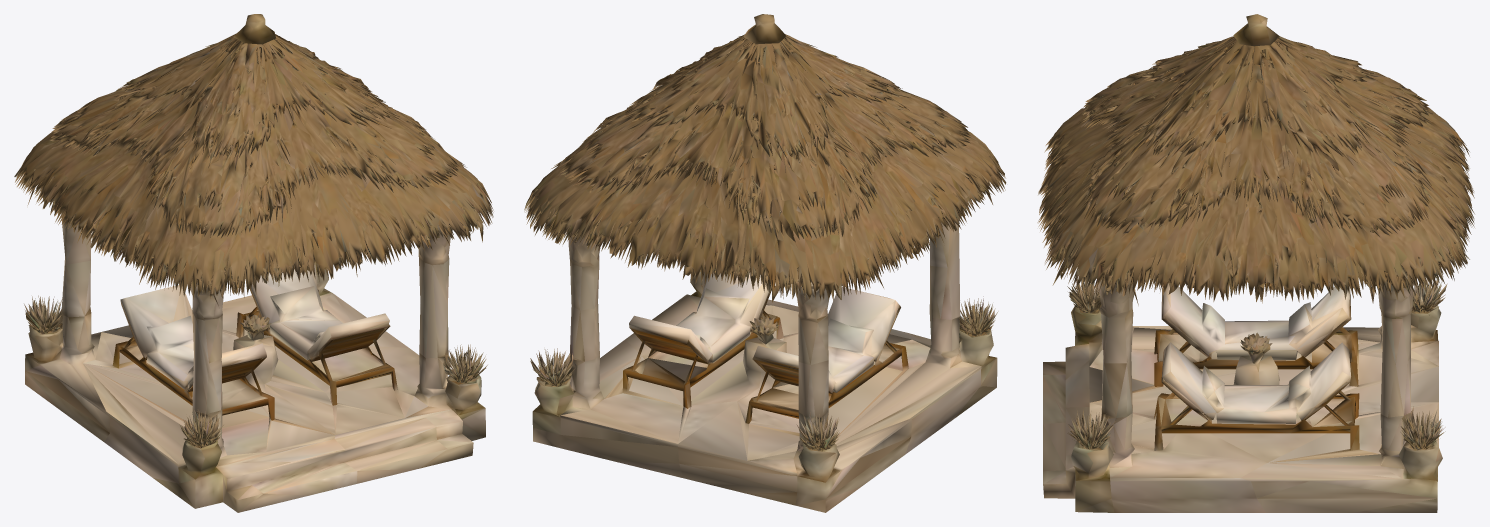
Rendered from palapa.glb.
3 renders of one model, left to right at view 1: azimuth 30°, elevation 25°; view 2: azimuth 150°, elevation 25°; view 3: azimuth 270°, elevation 25°, orthographic. The views are drawn at different scales.
Visible parts, largest first — view 1: Mesh_0; view 2: Mesh_0; view 3: Mesh_0.
Boxes of the visible parts, <box> form: Mesh_0: <box>14,14,493,512</box>; Mesh_0: <box>524,14,1006,512</box>; Mesh_0: <box>1037,14,1474,512</box>.
Bounding box in the file's own units: 1.79 × 1.9 × 1.79.
1 material, 1 textured.
